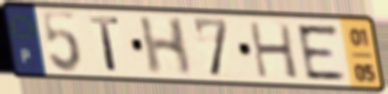5: (40, 8, 85, 75)
7: (191, 16, 232, 80)
E: (294, 23, 350, 82)
H: (137, 16, 194, 78), (246, 19, 302, 81)
T: (87, 14, 123, 74)
